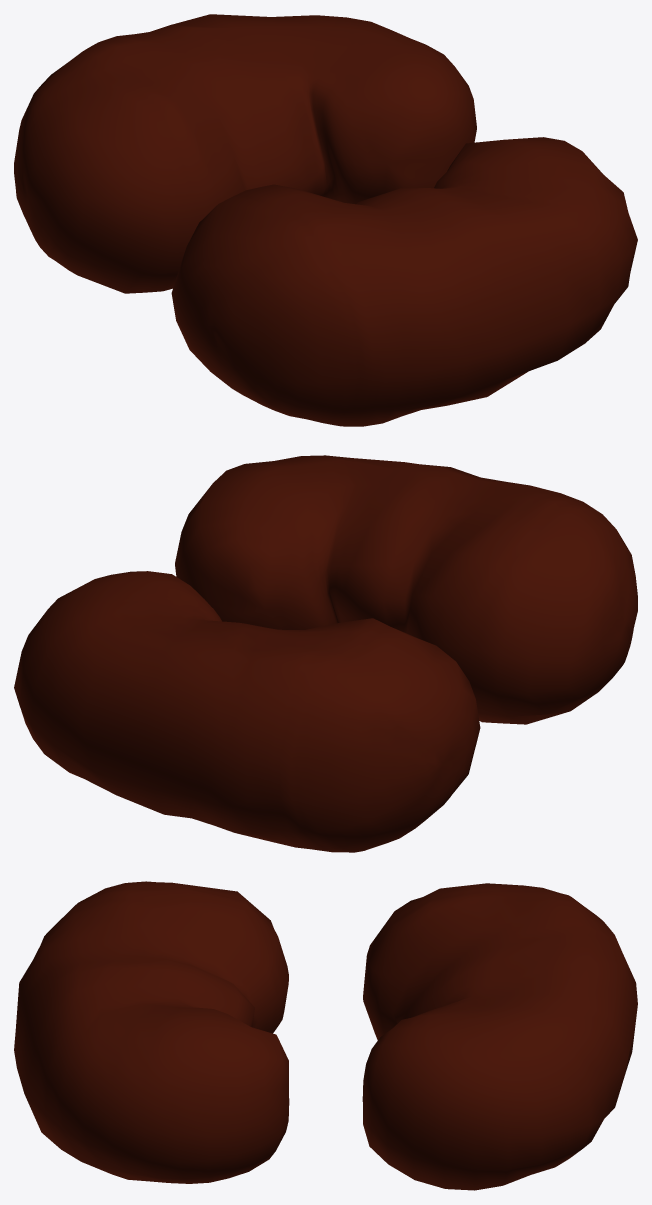
File: rinion.fbx
The picture shows the model from 3 angles, top to bottom: view 1: azimuth 30°, elevation 25°; view 2: azimuth 150°, elevation 25°; view 3: azimuth 270°, elevation 25°; orthographic projection. The views are drawn at different scales.
Parts seen in each view (by area): view 1: pSphere1, pSphere2; view 2: pSphere2, pSphere1; view 3: pSphere1, pSphere2.
Part boxes in pixels (x1,y1,x2,y2): pSphere1: (171,137,637,426); pSphere2: (14,14,476,293); pSphere2: (14,571,480,852); pSphere1: (175,455,637,724); pSphere1: (14,881,289,1183); pSphere2: (362,883,637,1190).
Bounding box in the file's own units: 33.98 × 15.55 × 46.07.
